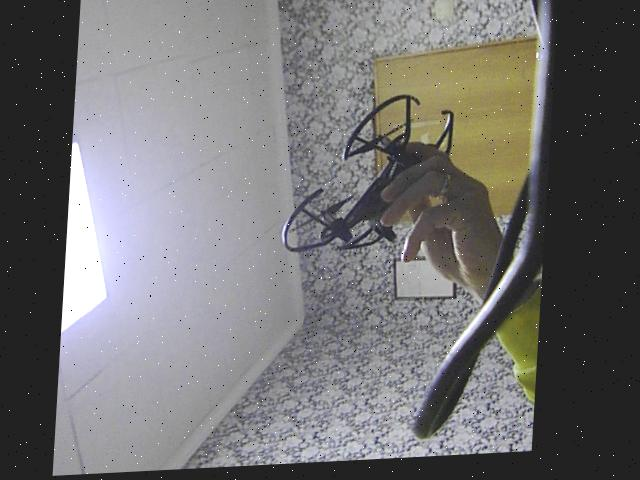drone: (277, 74, 470, 277)
